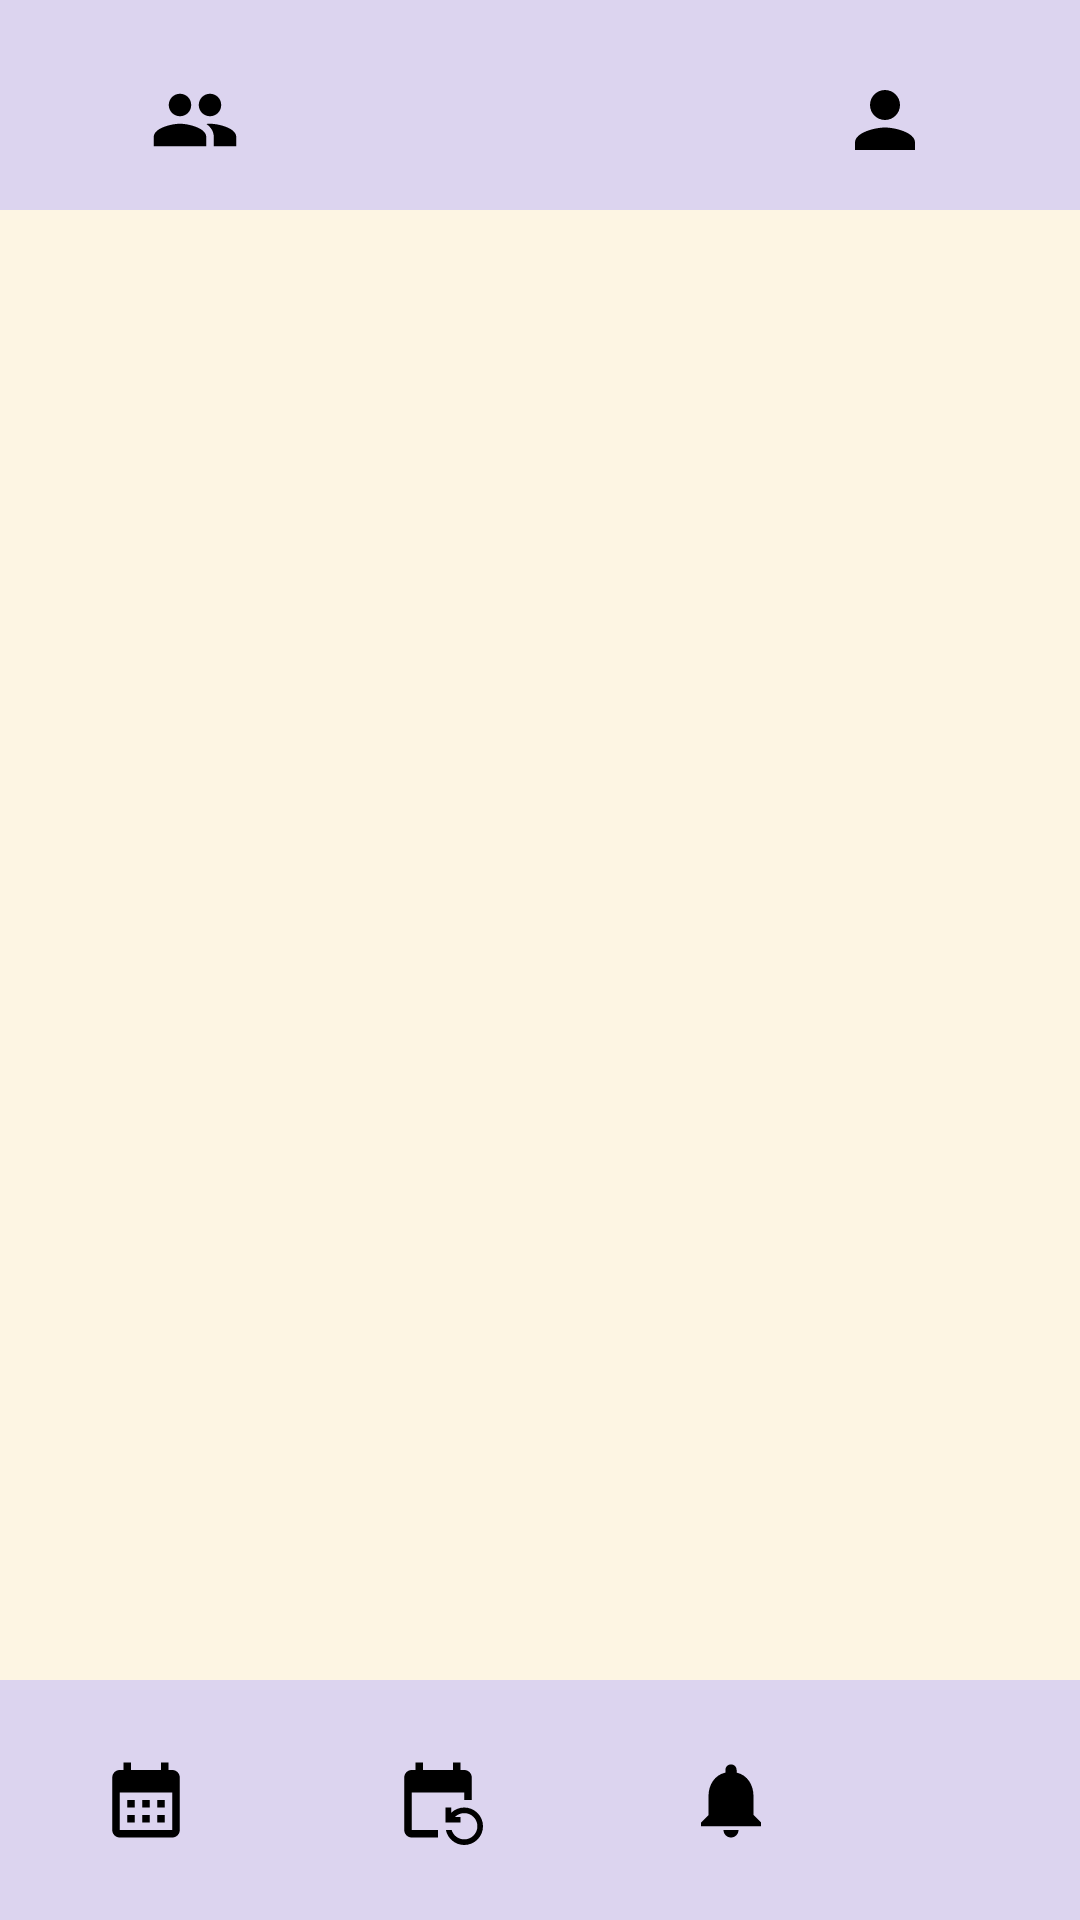

Locate icon controls on the screen. Image size 1080 × 1920, boxes as bbox=[x1, y1, x2, y2].
Calendario: bbox=[112, 1762, 180, 1838]
change: bbox=[404, 1762, 483, 1845]
group: bbox=[153, 93, 237, 147]
Notificaciones: bbox=[701, 1764, 761, 1838]
User: bbox=[855, 90, 915, 150]
